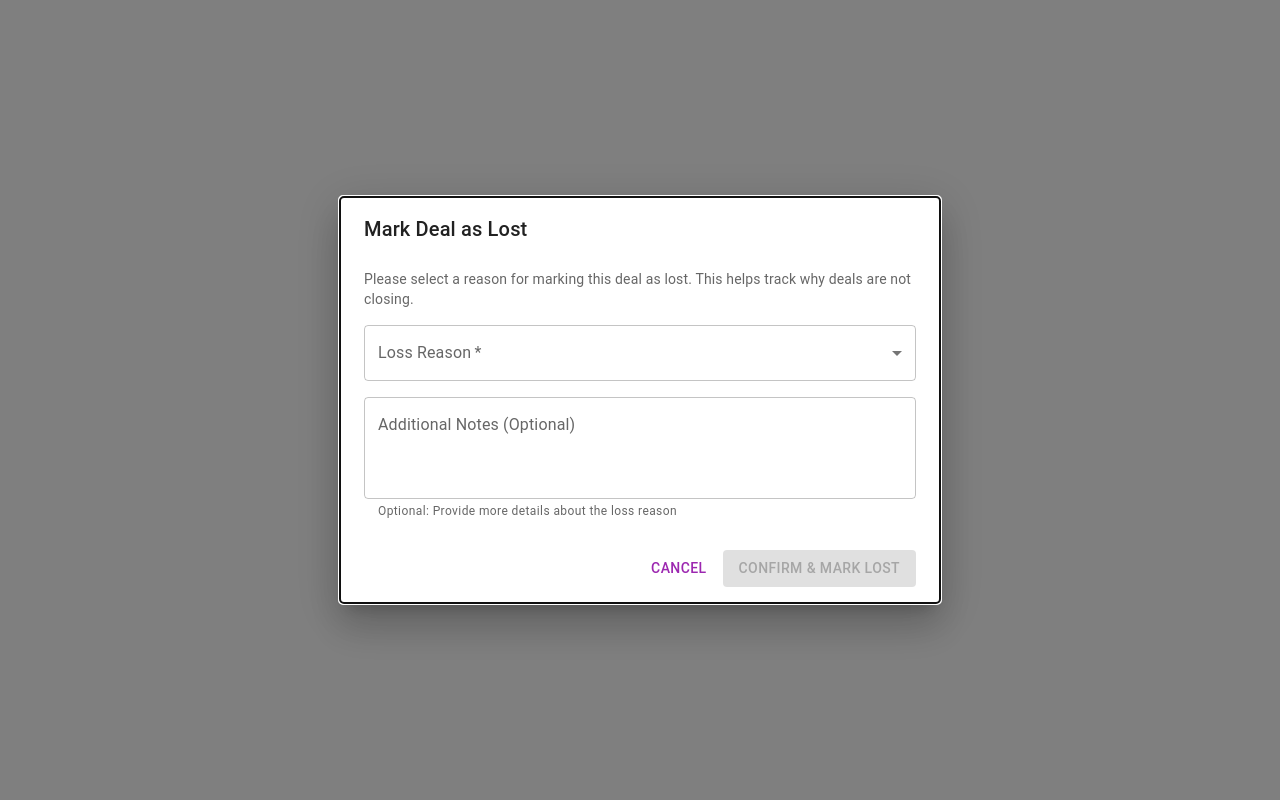
Scenario: LostReasonModal › displays all loss reason options
The image size is (1280, 800).
// Open the dropdown
Step 1. Click the dropdown named "Loss Reason" → (640,353), box [364, 325, 916, 381]
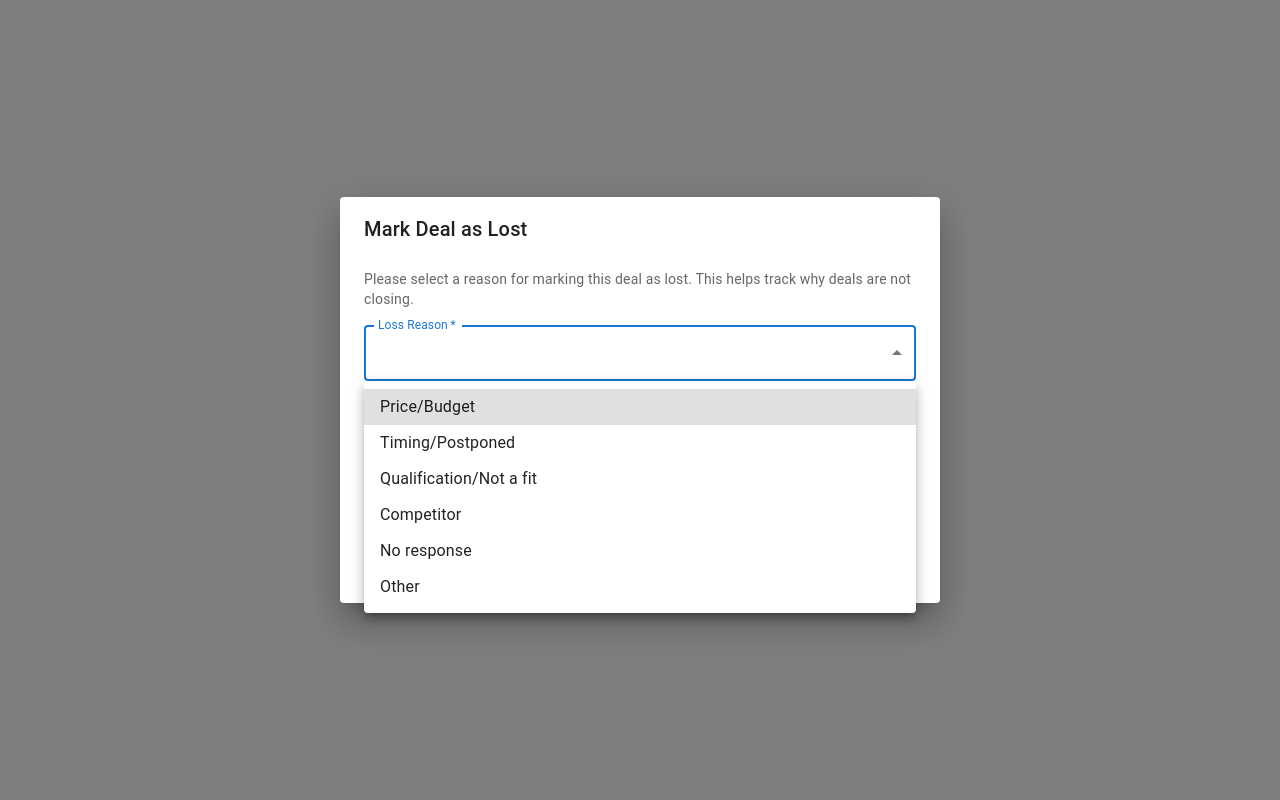
expect the option "Price/Budget" is shown: met, box [364, 389, 916, 425]
expect the option "Timing/Postponed" is shown: met, box [380, 433, 515, 452]
expect the option "Qualification/Not a fit" is shown: met, box [380, 469, 537, 488]
